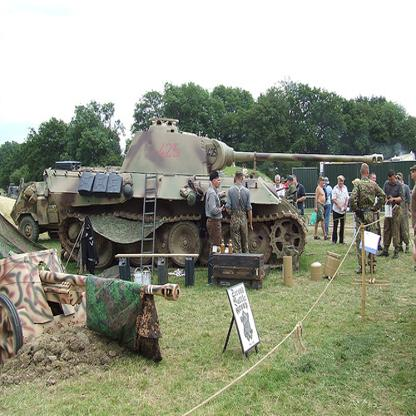Tank: (39, 127, 385, 281)
